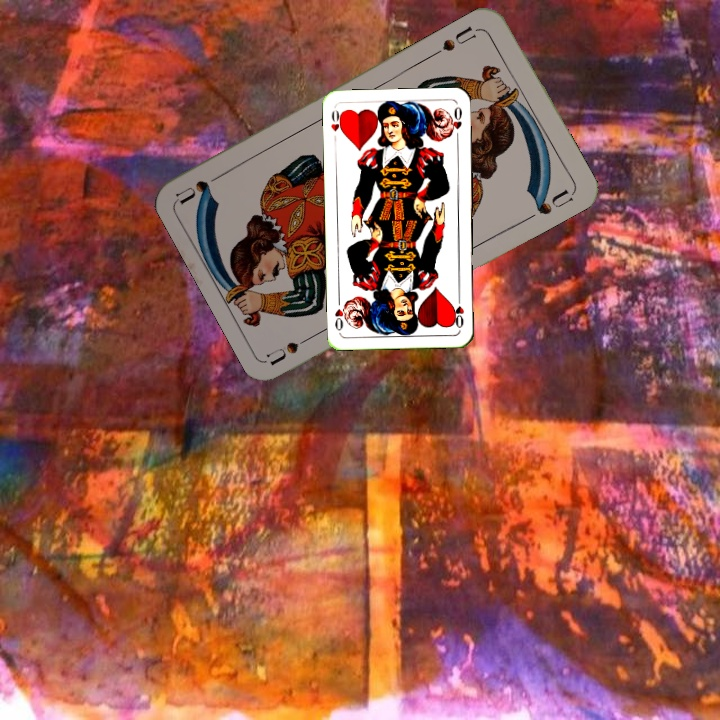HO: (327, 106, 346, 145), (451, 291, 466, 331)
SU: (263, 328, 320, 367), (429, 22, 483, 59)
